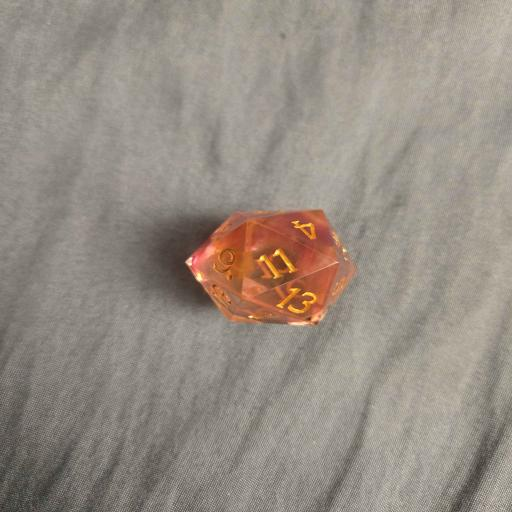twenty sided dice: (184, 209, 357, 326)
